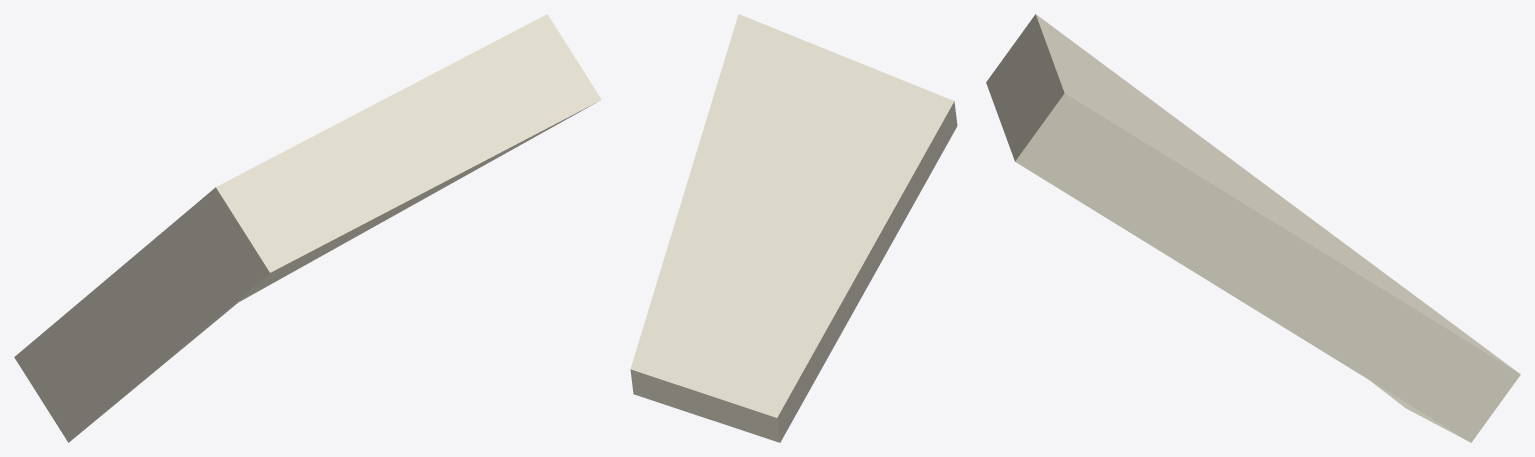
3 renders of one model, left to right at view 1: azimuth 30°, elevation 25°; view 2: azimuth 150°, elevation 25°; view 3: azimuth 270°, elevation 25°, orthographic. The views are drawn at different scales.
Visible parts, largest first — view 1: ZA_7a4c02566ebfceba; view 2: ZA_7a4c02566ebfceba; view 3: ZA_7a4c02566ebfceba.
Boxes of the visible parts, x1,y1,x2,y2 form: ZA_7a4c02566ebfceba: [14, 14, 601, 442]; ZA_7a4c02566ebfceba: [630, 14, 957, 442]; ZA_7a4c02566ebfceba: [986, 14, 1520, 442].
Size of the model in its own units: 0.00212 by 0.00278 by 0.00316.
